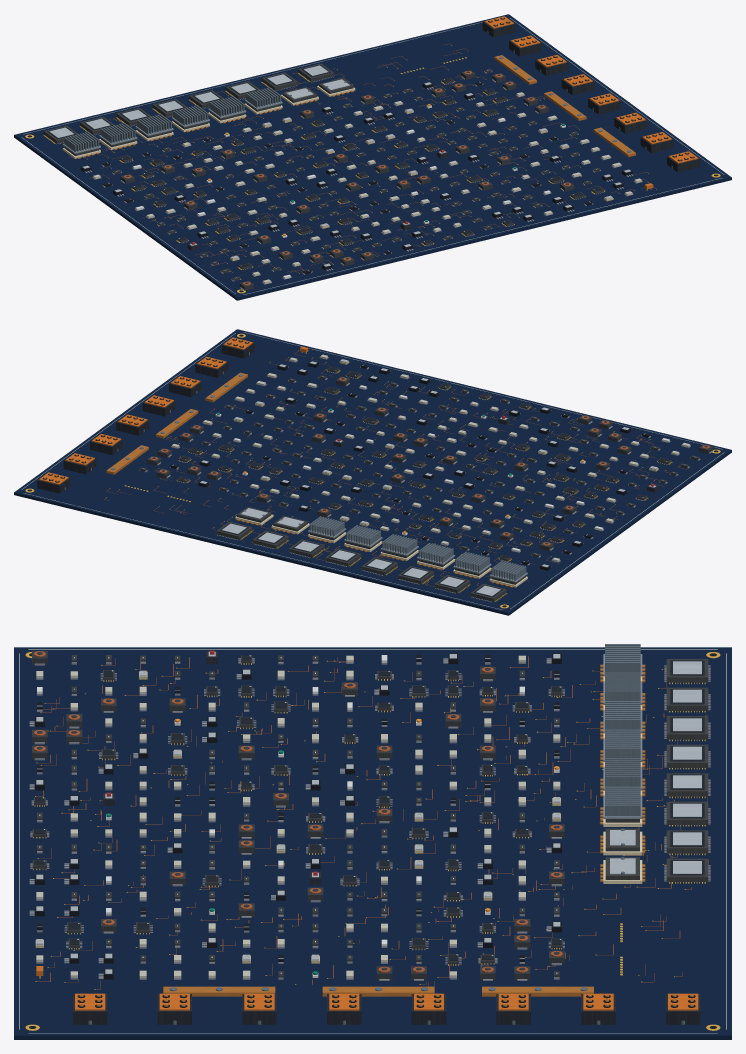
Rendered from 417_L126_AssembledReference.obj.
3 renders of one model, top to bottom at view 1: azimuth 30°, elevation 25°; view 2: azimuth 150°, elevation 25°; view 3: azimuth 270°, elevation 25°, orthographic. The views are drawn at different scales.
Visible parts, largest first — view 1: 417_L126_AssembledReference__PSMAT__pcb, 417_L126_AssembledReference__PSMAT__graphite, 417_L126_AssembledReference__PSMAT__ferrite, 417_L126_AssembledReference__PSMAT__steel, 417_L126_AssembledReference__PSMAT__solder, 417_L126_AssembledReference__PSMAT__black, 417_L126_AssembledReference__PSMAT__ceramic, 417_L126_AssembledReference__PSMAT__silver, 417_L126_AssembledReference__PSMAT__connector, 417_L126_AssembledReference__PSMAT__resistor, 417_L126_AssembledReference__PSMAT__chip, 417_L126_AssembledReference__PSMAT__copper (+9 smaller); view 2: 417_L126_AssembledReference__PSMAT__pcb, 417_L126_AssembledReference__PSMAT__graphite, 417_L126_AssembledReference__PSMAT__ferrite, 417_L126_AssembledReference__PSMAT__steel, 417_L126_AssembledReference__PSMAT__solder, 417_L126_AssembledReference__PSMAT__black, 417_L126_AssembledReference__PSMAT__ceramic, 417_L126_AssembledReference__PSMAT__silver, 417_L126_AssembledReference__PSMAT__connector, 417_L126_AssembledReference__PSMAT__resistor, 417_L126_AssembledReference__PSMAT__chip, 417_L126_AssembledReference__PSMAT__copper (+8 smaller); view 3: 417_L126_AssembledReference__PSMAT__pcb, 417_L126_AssembledReference__PSMAT__graphite, 417_L126_AssembledReference__PSMAT__solder, 417_L126_AssembledReference__PSMAT__steel, 417_L126_AssembledReference__PSMAT__ferrite, 417_L126_AssembledReference__PSMAT__silver, 417_L126_AssembledReference__PSMAT__chip, 417_L126_AssembledReference__PSMAT__black, 417_L126_AssembledReference__PSMAT__busbar, 417_L126_AssembledReference__PSMAT__connector, 417_L126_AssembledReference__PSMAT__ceramic, 417_L126_AssembledReference__PSMAT__copper (+9 smaller).
Boxes of the visible parts, left/top/right/bottom form: 417_L126_AssembledReference__PSMAT__pcb: left=14, top=14, right=731, bottom=300; 417_L126_AssembledReference__PSMAT__graphite: left=43, top=63, right=603, bottom=269; 417_L126_AssembledReference__PSMAT__ferrite: left=120, top=70, right=574, bottom=290; 417_L126_AssembledReference__PSMAT__steel: left=64, top=31, right=672, bottom=168; 417_L126_AssembledReference__PSMAT__solder: left=58, top=71, right=642, bottom=290; 417_L126_AssembledReference__PSMAT__black: left=27, top=17, right=718, bottom=292; 417_L126_AssembledReference__PSMAT__ceramic: left=93, top=92, right=641, bottom=283; 417_L126_AssembledReference__PSMAT__silver: left=49, top=65, right=630, bottom=271; 417_L126_AssembledReference__PSMAT__connector: left=482, top=16, right=700, bottom=172; 417_L126_AssembledReference__PSMAT__resistor: left=112, top=69, right=600, bottom=280; 417_L126_AssembledReference__PSMAT__chip: left=47, top=64, right=602, bottom=267; 417_L126_AssembledReference__PSMAT__copper: left=56, top=43, right=655, bottom=272; 417_L126_AssembledReference__PSMAT__pcb: left=14, top=329, right=731, bottom=615; 417_L126_AssembledReference__PSMAT__graphite: left=177, top=366, right=671, bottom=601; 417_L126_AssembledReference__PSMAT__ferrite: left=147, top=376, right=713, bottom=550; 417_L126_AssembledReference__PSMAT__steel: left=64, top=352, right=526, bottom=580; 417_L126_AssembledReference__PSMAT__solder: left=139, top=357, right=712, bottom=602; 417_L126_AssembledReference__PSMAT__black: left=27, top=334, right=718, bottom=607; 417_L126_AssembledReference__PSMAT__ceramic: left=171, top=354, right=690, bottom=562; 417_L126_AssembledReference__PSMAT__silver: left=172, top=359, right=657, bottom=595; 417_L126_AssembledReference__PSMAT__connector: left=37, top=337, right=254, bottom=493; 417_L126_AssembledReference__PSMAT__resistor: left=140, top=375, right=699, bottom=557; 417_L126_AssembledReference__PSMAT__chip: left=179, top=367, right=669, bottom=597; 417_L126_AssembledReference__PSMAT__copper: left=104, top=351, right=686, bottom=593; 417_L126_AssembledReference__PSMAT__pcb: left=14, top=647, right=731, bottom=1039; 417_L126_AssembledReference__PSMAT__graphite: left=32, top=655, right=708, bottom=964; 417_L126_AssembledReference__PSMAT__solder: left=30, top=658, right=710, bottom=980; 417_L126_AssembledReference__PSMAT__steel: left=88, top=644, right=684, bottom=1024; 417_L126_AssembledReference__PSMAT__ferrite: left=32, top=651, right=564, bottom=980; 417_L126_AssembledReference__PSMAT__silver: left=36, top=651, right=701, bottom=973; 417_L126_AssembledReference__PSMAT__chip: left=34, top=655, right=704, bottom=960; 417_L126_AssembledReference__PSMAT__black: left=29, top=653, right=716, bottom=1028; 417_L126_AssembledReference__PSMAT__busbar: left=79, top=664, right=693, bottom=1006; 417_L126_AssembledReference__PSMAT__connector: left=73, top=994, right=700, bottom=1024; 417_L126_AssembledReference__PSMAT__ceramic: left=36, top=655, right=560, bottom=977; 417_L126_AssembledReference__PSMAT__copper: left=36, top=656, right=708, bottom=989.
Size of the model in its own units: 0.64 by 0.0189 by 0.5.
26 materials, 26 textured.
